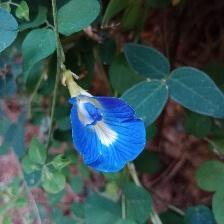shankupushpam: (67, 67, 151, 178)
